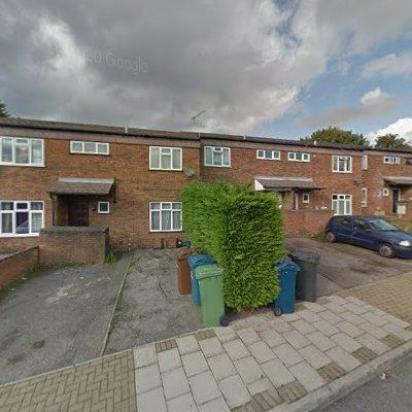stationary-car-offstreet: (322, 213, 412, 258)
